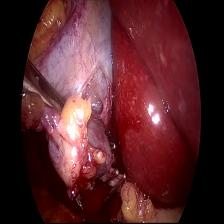Grasper: (22, 55, 72, 129)
